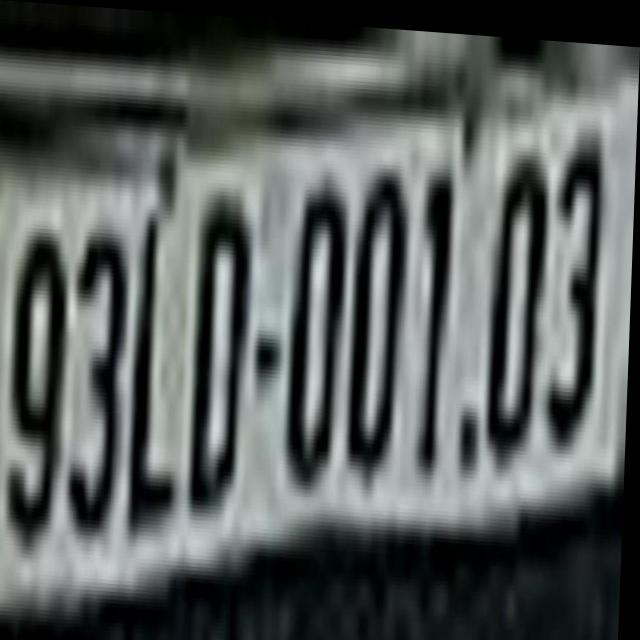0: (283, 142, 349, 505), (487, 107, 549, 475), (346, 141, 409, 478)
1: (412, 133, 457, 488)
3: (549, 126, 613, 451), (71, 207, 130, 558)
9: (8, 215, 67, 571)
D: (189, 182, 250, 519)
L: (132, 183, 190, 539)
